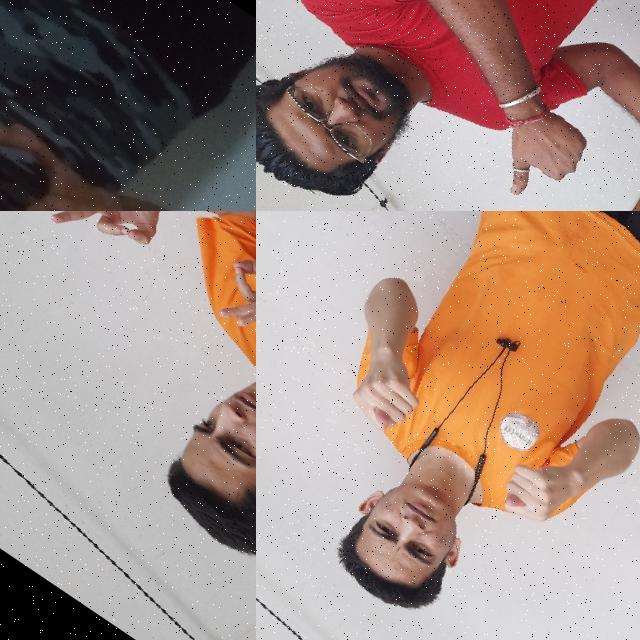Dulya: (482, 428, 597, 546), (333, 334, 444, 448)
Moutza: (0, 100, 190, 211)
Okay: (19, 211, 199, 291), (197, 213, 256, 362)
Thumbs Up: (472, 90, 602, 211)
